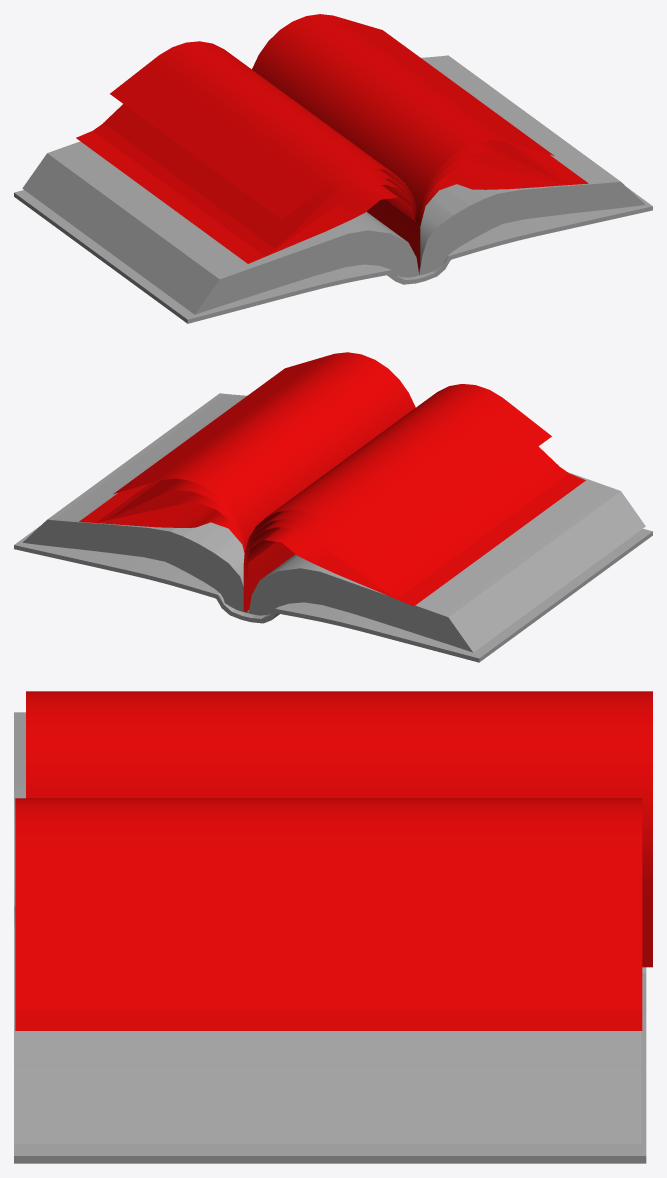
Rendered from SM_Book_05.fbx.
The picture shows the model from 3 angles, top to bottom: view 1: azimuth 30°, elevation 25°; view 2: azimuth 150°, elevation 25°; view 3: azimuth 270°, elevation 25°; orthographic projection. The views are drawn at different scales.
Parts seen in each view (by area): view 1: SM_Book_05; view 2: SM_Book_05; view 3: SM_Book_05.
Part boxes in pixels (x1=…): SM_Book_05: x1=14, y1=14, x2=652, y2=323; SM_Book_05: x1=14, y1=352, x2=652, y2=662; SM_Book_05: x1=14, y1=691, x2=652, y2=1163.
Size of the model in its own units: 41.08 by 26.86 by 10.6.
